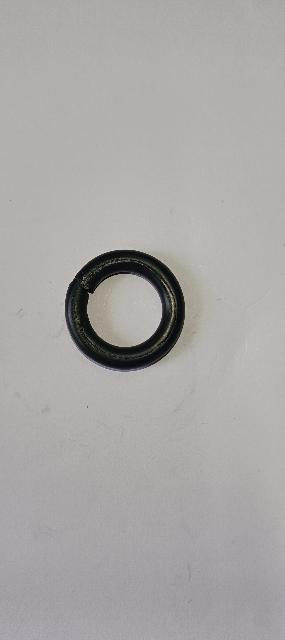crack: (67, 267, 97, 305)
scratch: (69, 256, 182, 364)
